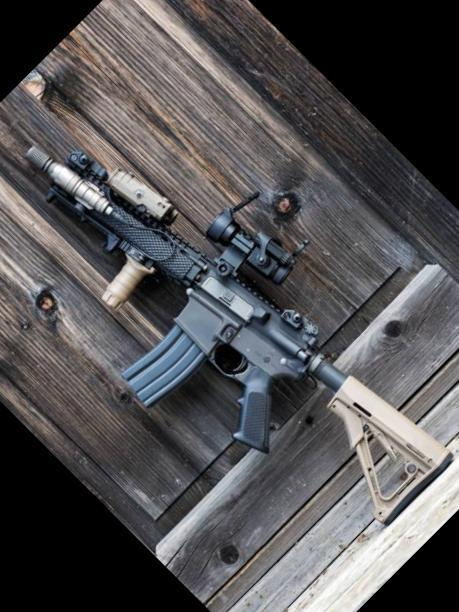larga: (23, 144, 453, 527)
